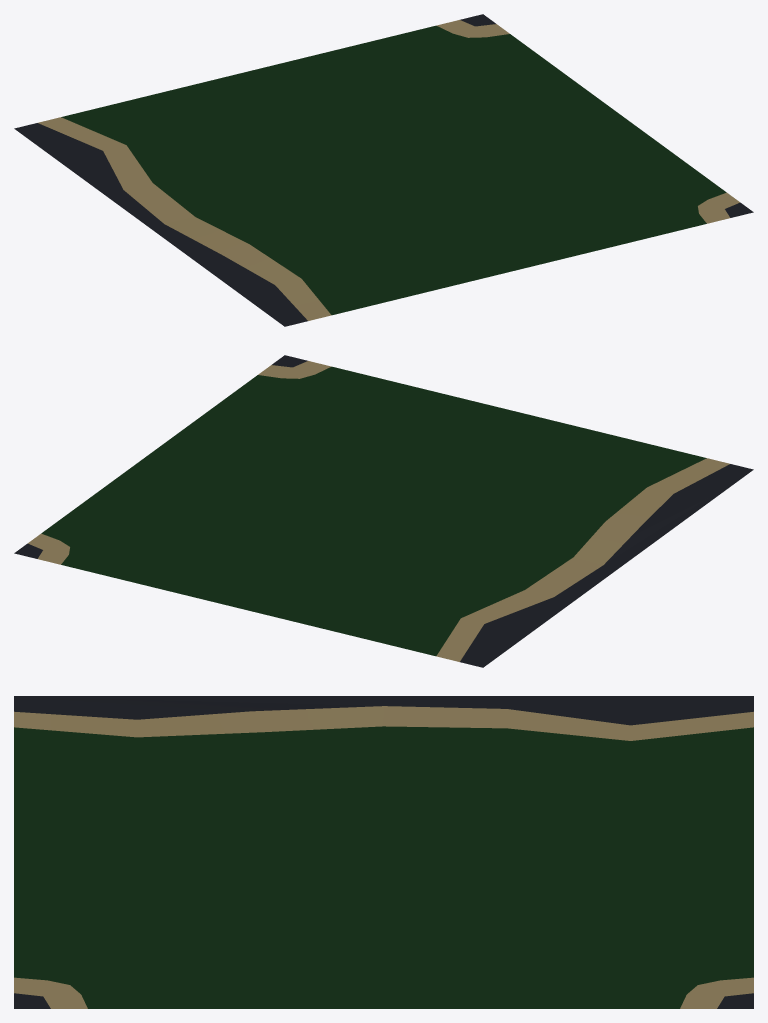
Rendered from terrain_plains_shore_intersection_t.fbx.
The picture shows the model from 3 angles, top to bottom: view 1: azimuth 30°, elevation 25°; view 2: azimuth 150°, elevation 25°; view 3: azimuth 270°, elevation 25°; orthographic projection. The views are drawn at different scales.
Parts seen in each view (by area): view 1: terrain_plains_intersection_t; view 2: terrain_plains_intersection_t; view 3: terrain_plains_intersection_t.
Boxes of the visible parts, bbox=[...] form: terrain_plains_intersection_t: bbox=[14, 14, 753, 326]; terrain_plains_intersection_t: bbox=[14, 355, 753, 667]; terrain_plains_intersection_t: bbox=[14, 696, 753, 1008].
Size of the model in its own units: 10 by 0.027 by 10.
